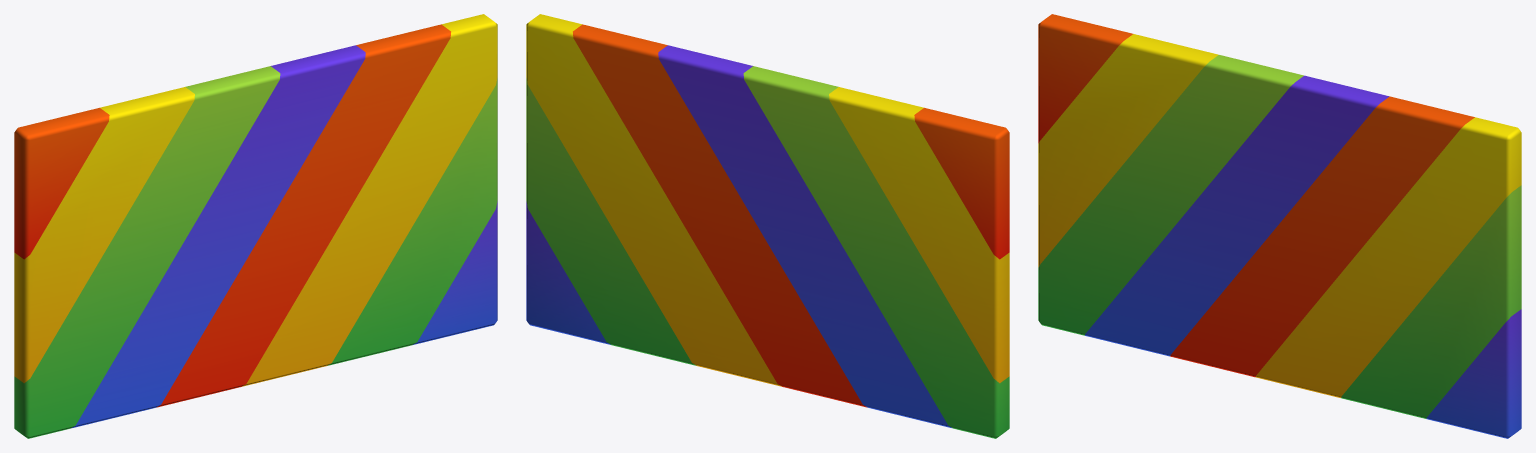
Rendered from Door_01.glb.
3 views of the same model, side by side, from view 1: azimuth 30°, elevation 25°; view 2: azimuth 150°, elevation 25°; view 3: azimuth 330°, elevation 25° (orthographic).
Parts seen in each view (by area): view 1: Door_01; view 2: Door_01; view 3: Door_01.
Part boxes in pixels (box(x1,y1,x2,y2)): Door_01: box(14, 14, 497, 438); Door_01: box(526, 14, 1009, 438); Door_01: box(1038, 14, 1521, 438).
Bounding box in the file's own units: 7.22 × 4.44 × 0.3795.
Materials: 1 (1 with a texture image).
